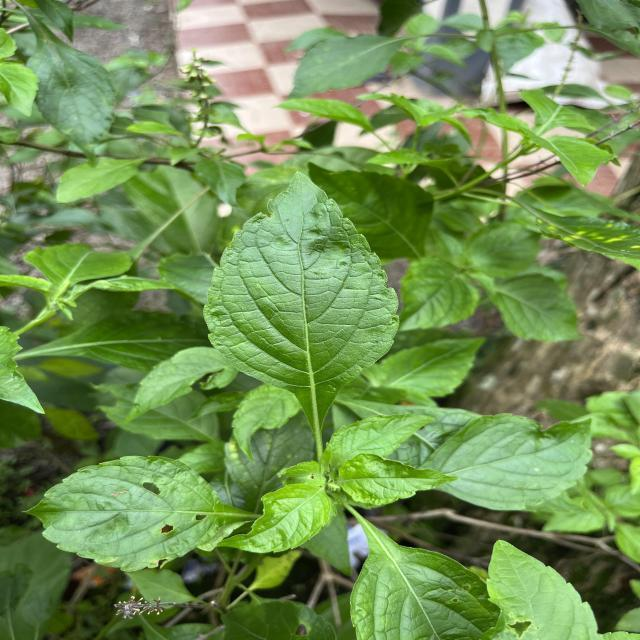Ocimum gratissimum: (200, 168, 403, 434), (16, 453, 237, 576), (345, 516, 508, 640), (218, 478, 338, 556), (333, 450, 463, 510)
